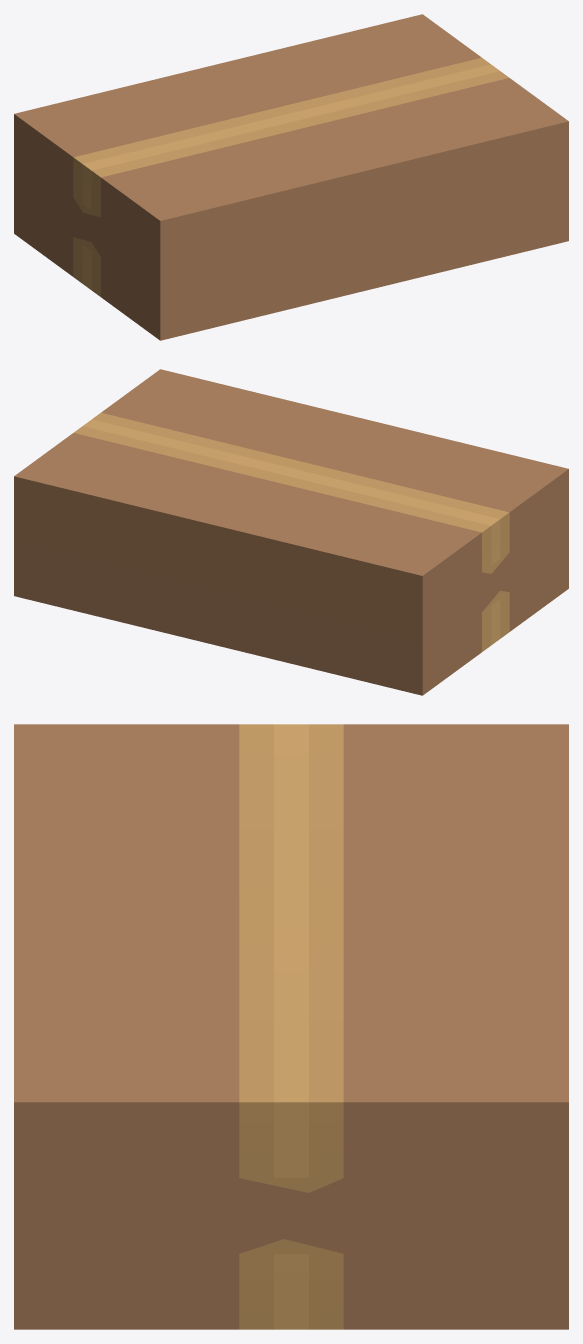
File: Tan Packing Box #3.fbx
3 renders of one model, top to bottom at view 1: azimuth 30°, elevation 25°; view 2: azimuth 150°, elevation 25°; view 3: azimuth 270°, elevation 25°, orthographic. The views are drawn at different scales.
Visible parts, largest first — view 1: Small Tan Packing Box #1; view 2: Small Tan Packing Box #1; view 3: Small Tan Packing Box #1.
Boxes of the visible parts, <box> form: Small Tan Packing Box #1: <box>14,14,568,340</box>; Small Tan Packing Box #1: <box>14,369,568,695</box>; Small Tan Packing Box #1: <box>14,724,568,1329</box>.
Bounding box in the file's own units: 72.34 × 160 × 258.
1 material, 1 textured.
